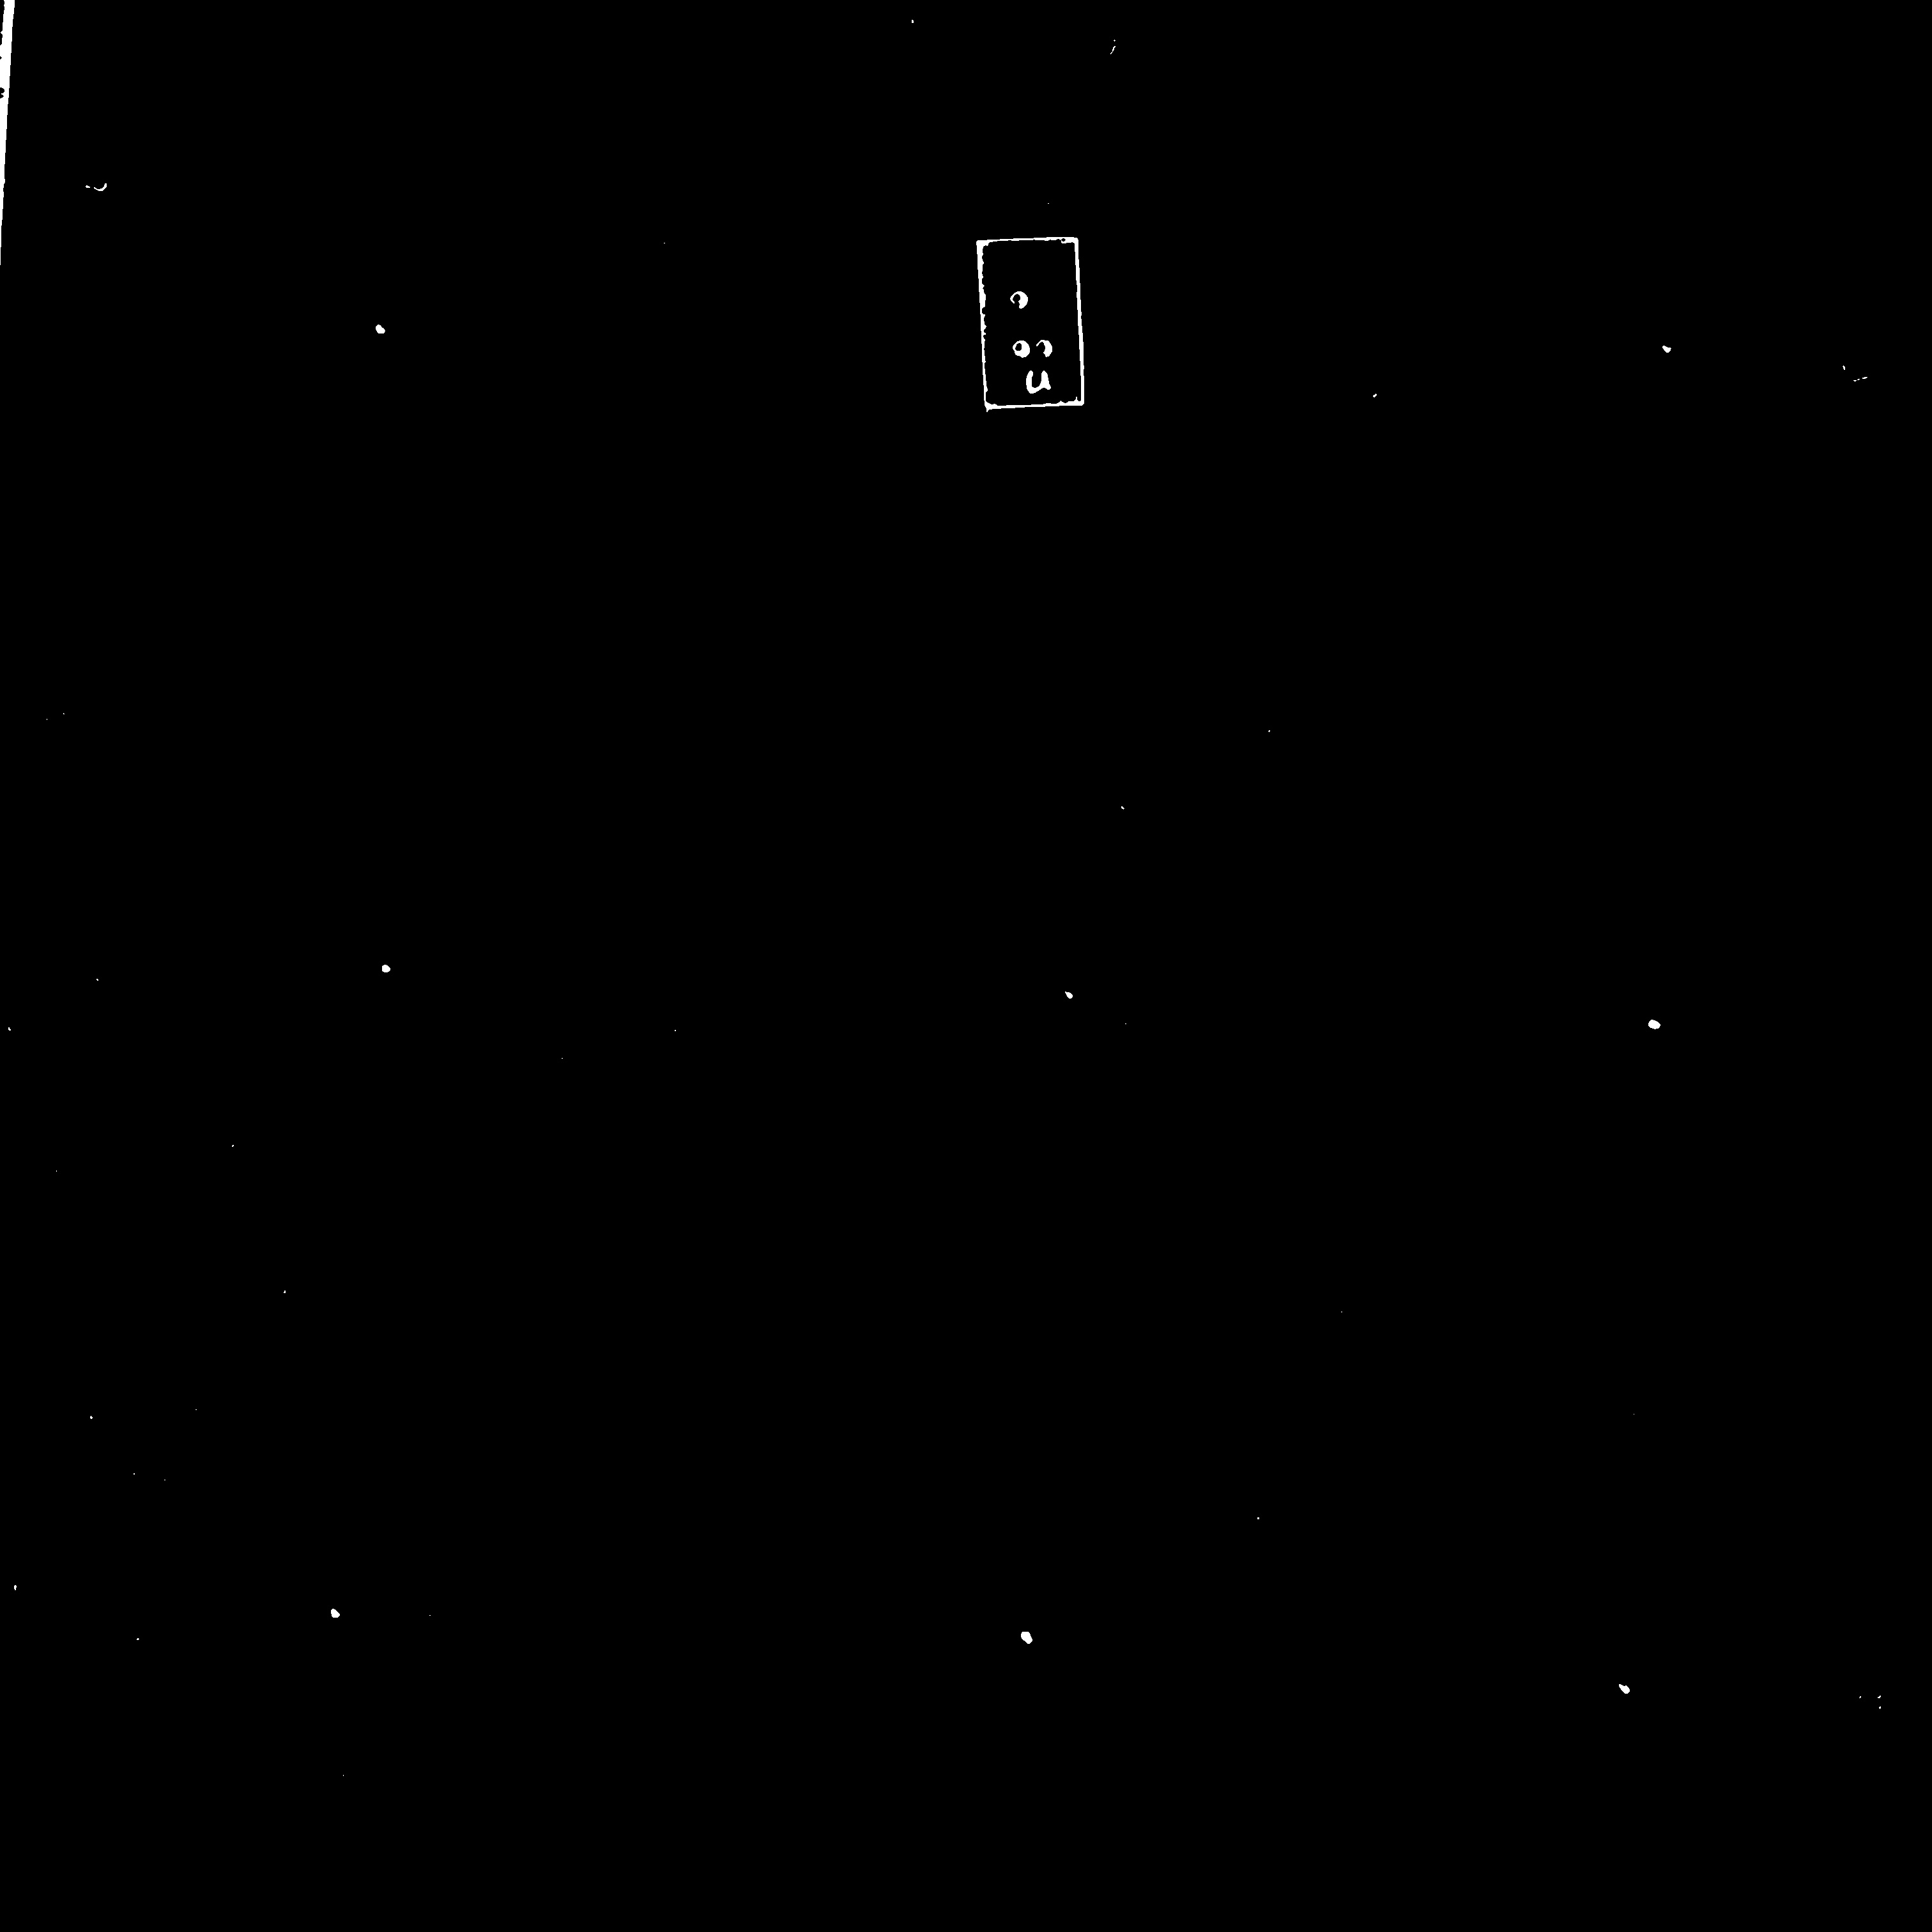u: (999, 271, 1071, 364)
